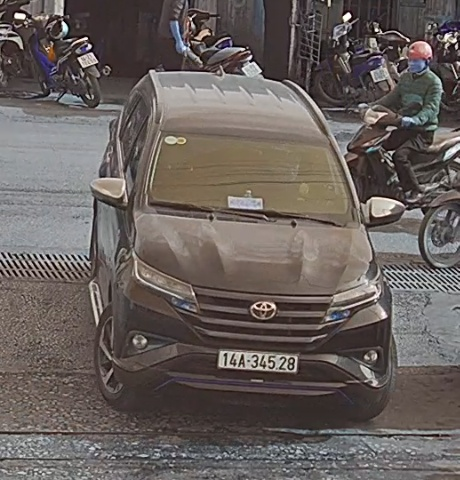vehicle plate: (213, 342, 304, 381)
